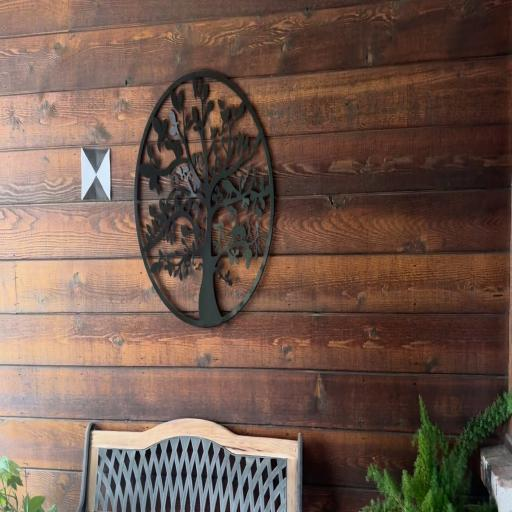target: (81, 148, 111, 200)
